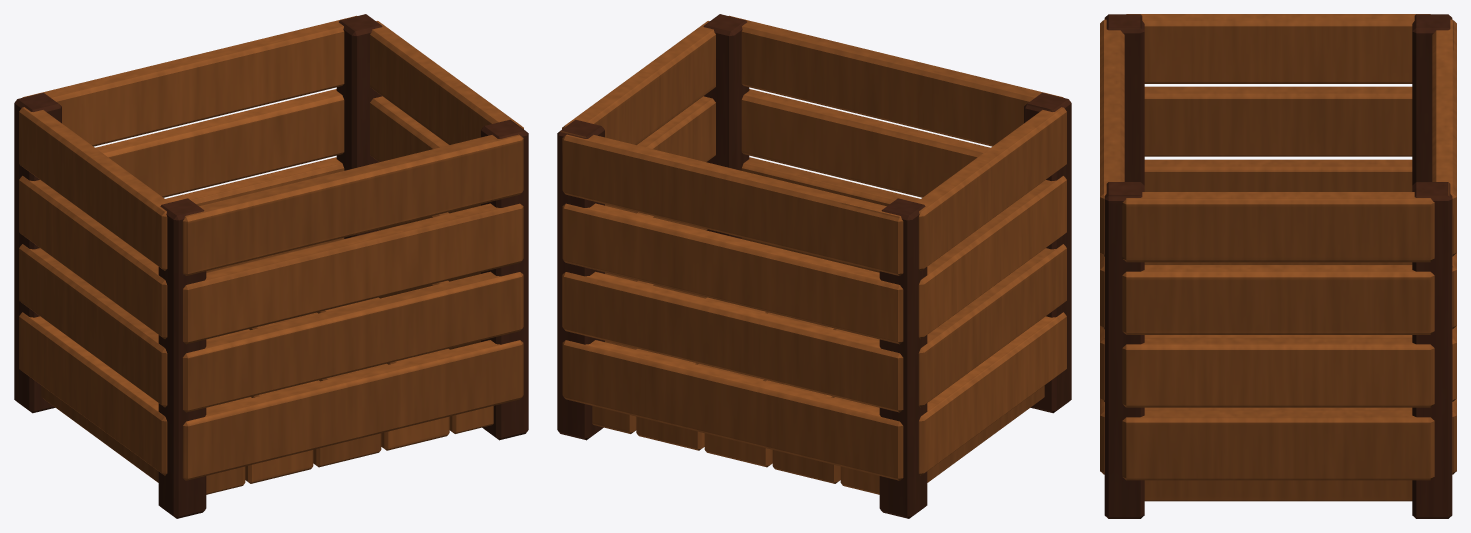
File: TX_D05_Crate_Open.fbx
3 renders of one model, left to right at view 1: azimuth 30°, elevation 25°; view 2: azimuth 150°, elevation 25°; view 3: azimuth 270°, elevation 25°, orthographic. The views are drawn at different scales.
Visible parts, largest first — view 1: TX_D05_Crate_Open; view 2: TX_D05_Crate_Open; view 3: TX_D05_Crate_Open.
Part boxes in pixels (<box>): TX_D05_Crate_Open: <box>14,14,528,518</box>; TX_D05_Crate_Open: <box>557,14,1071,518</box>; TX_D05_Crate_Open: <box>1100,14,1456,518</box>.
Bounding box in the file's own units: 1 × 0.8 × 0.8.
Materials: 2 (2 with a texture image).
